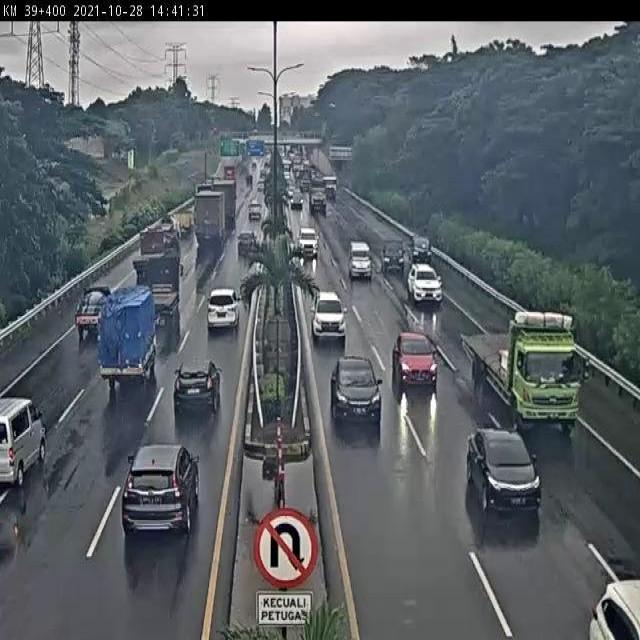car: (119, 442, 199, 534), (463, 427, 543, 513), (0, 393, 48, 483), (330, 355, 382, 424), (171, 358, 221, 413), (392, 334, 438, 389), (75, 282, 113, 338), (310, 292, 346, 344), (408, 264, 443, 307), (206, 288, 241, 329), (346, 242, 372, 282), (380, 242, 404, 274), (297, 228, 319, 259), (407, 236, 431, 263), (237, 229, 257, 256)
mid truck: (459, 309, 583, 431)
truck-m-: (97, 288, 157, 384), (134, 253, 181, 323), (133, 230, 166, 274), (154, 216, 180, 253)
